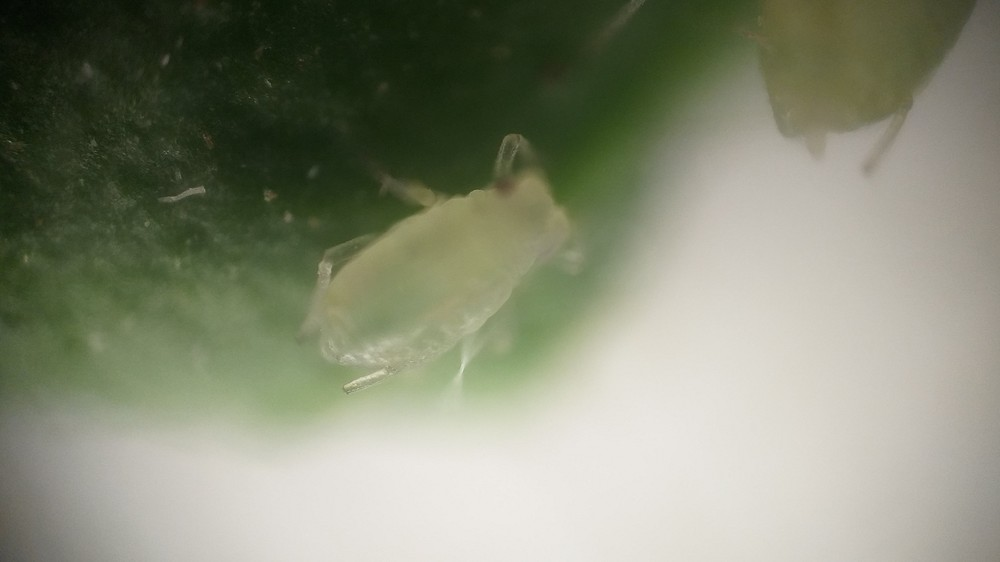Pulgon: (282, 134, 604, 409)
